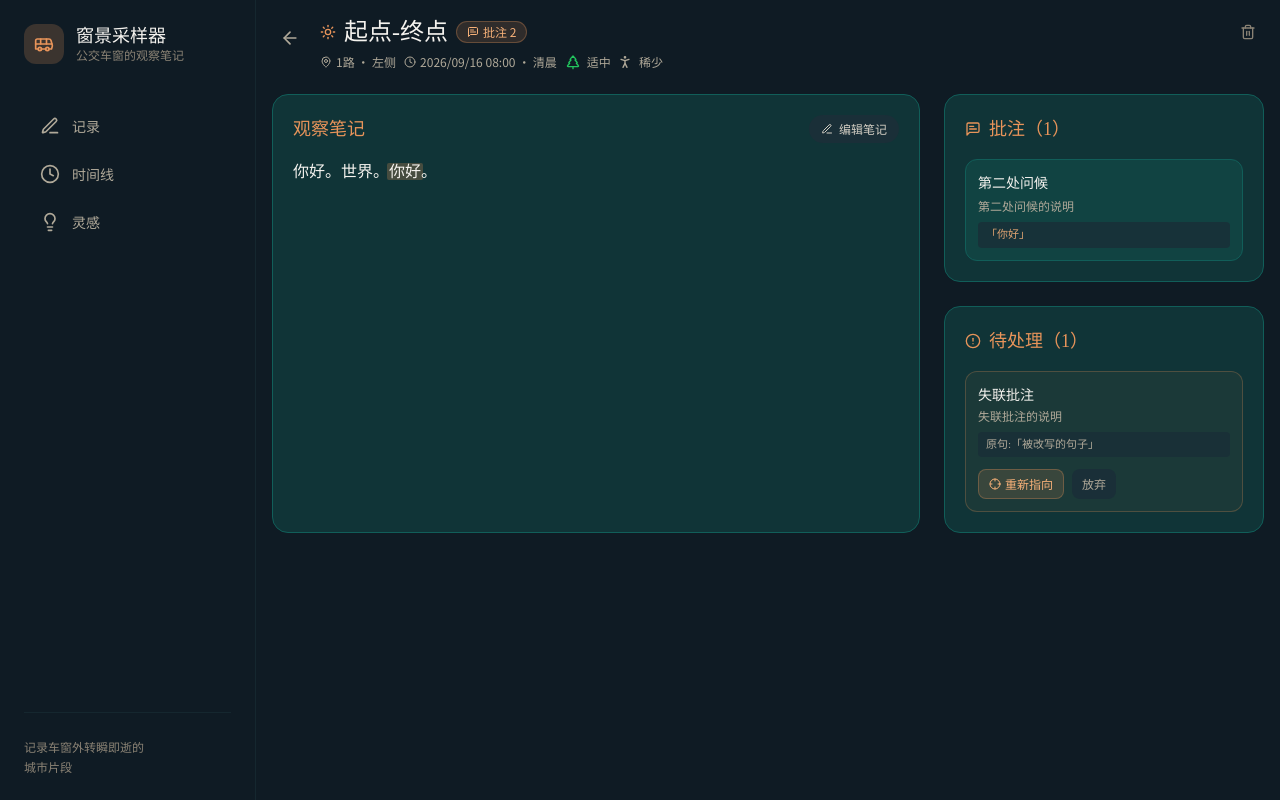
窗景批注台：主要流程 › 待处理批注可放弃
Expected: the number of list items with test id "pending-item" is 1, top-left (965, 371), bottom-right (1243, 512)
Click the button with test id "discard-button": (1094, 484) top-left (1072, 469), bottom-right (1116, 499)
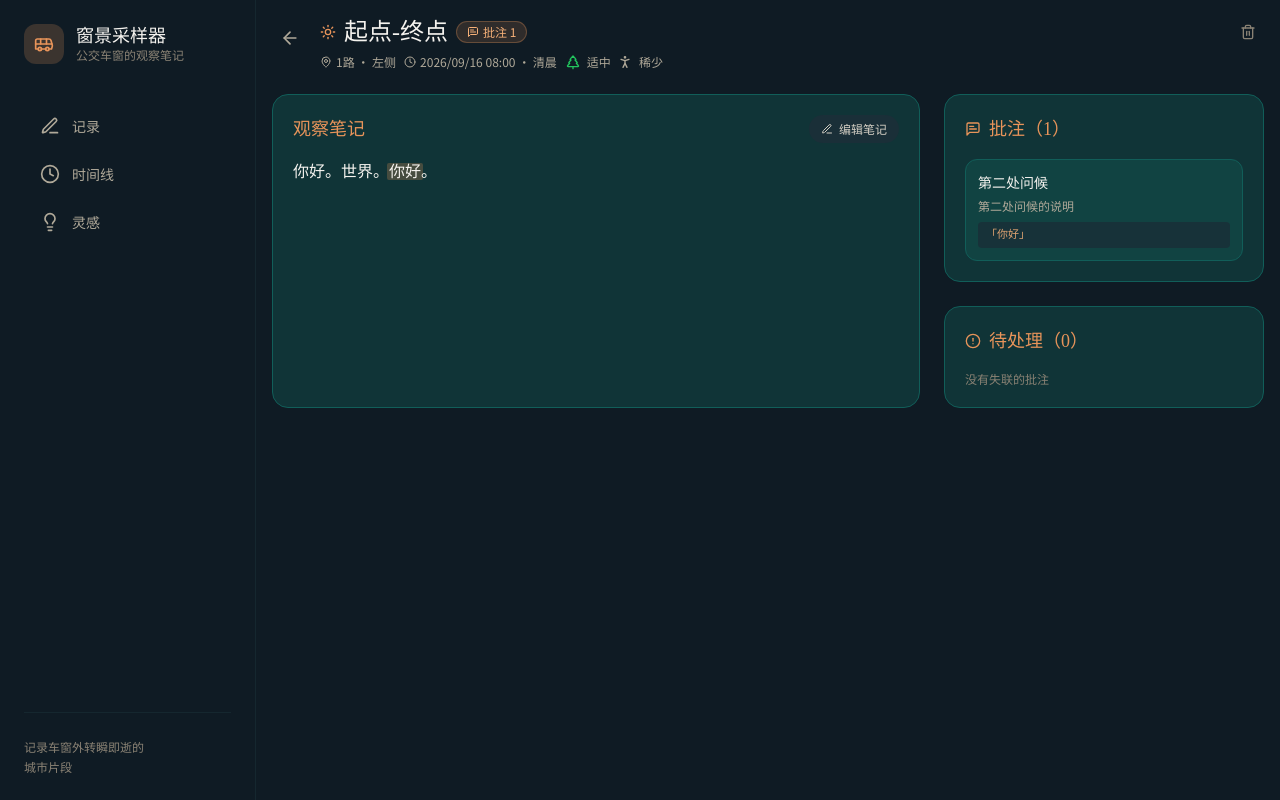
Expected: no list items with test id "pending-item" are shown
Expected: the element with test id "annotation-count" reads "批注 1", top-left (456, 21), bottom-right (527, 43)
